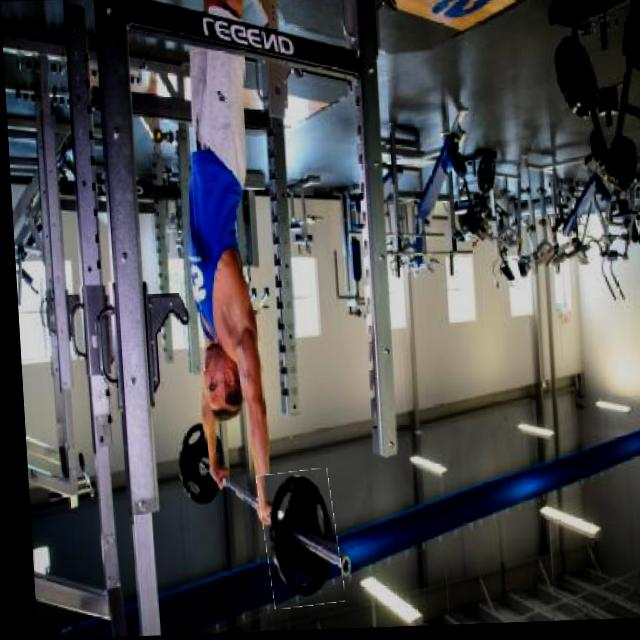barbell: (254, 472, 336, 611)
